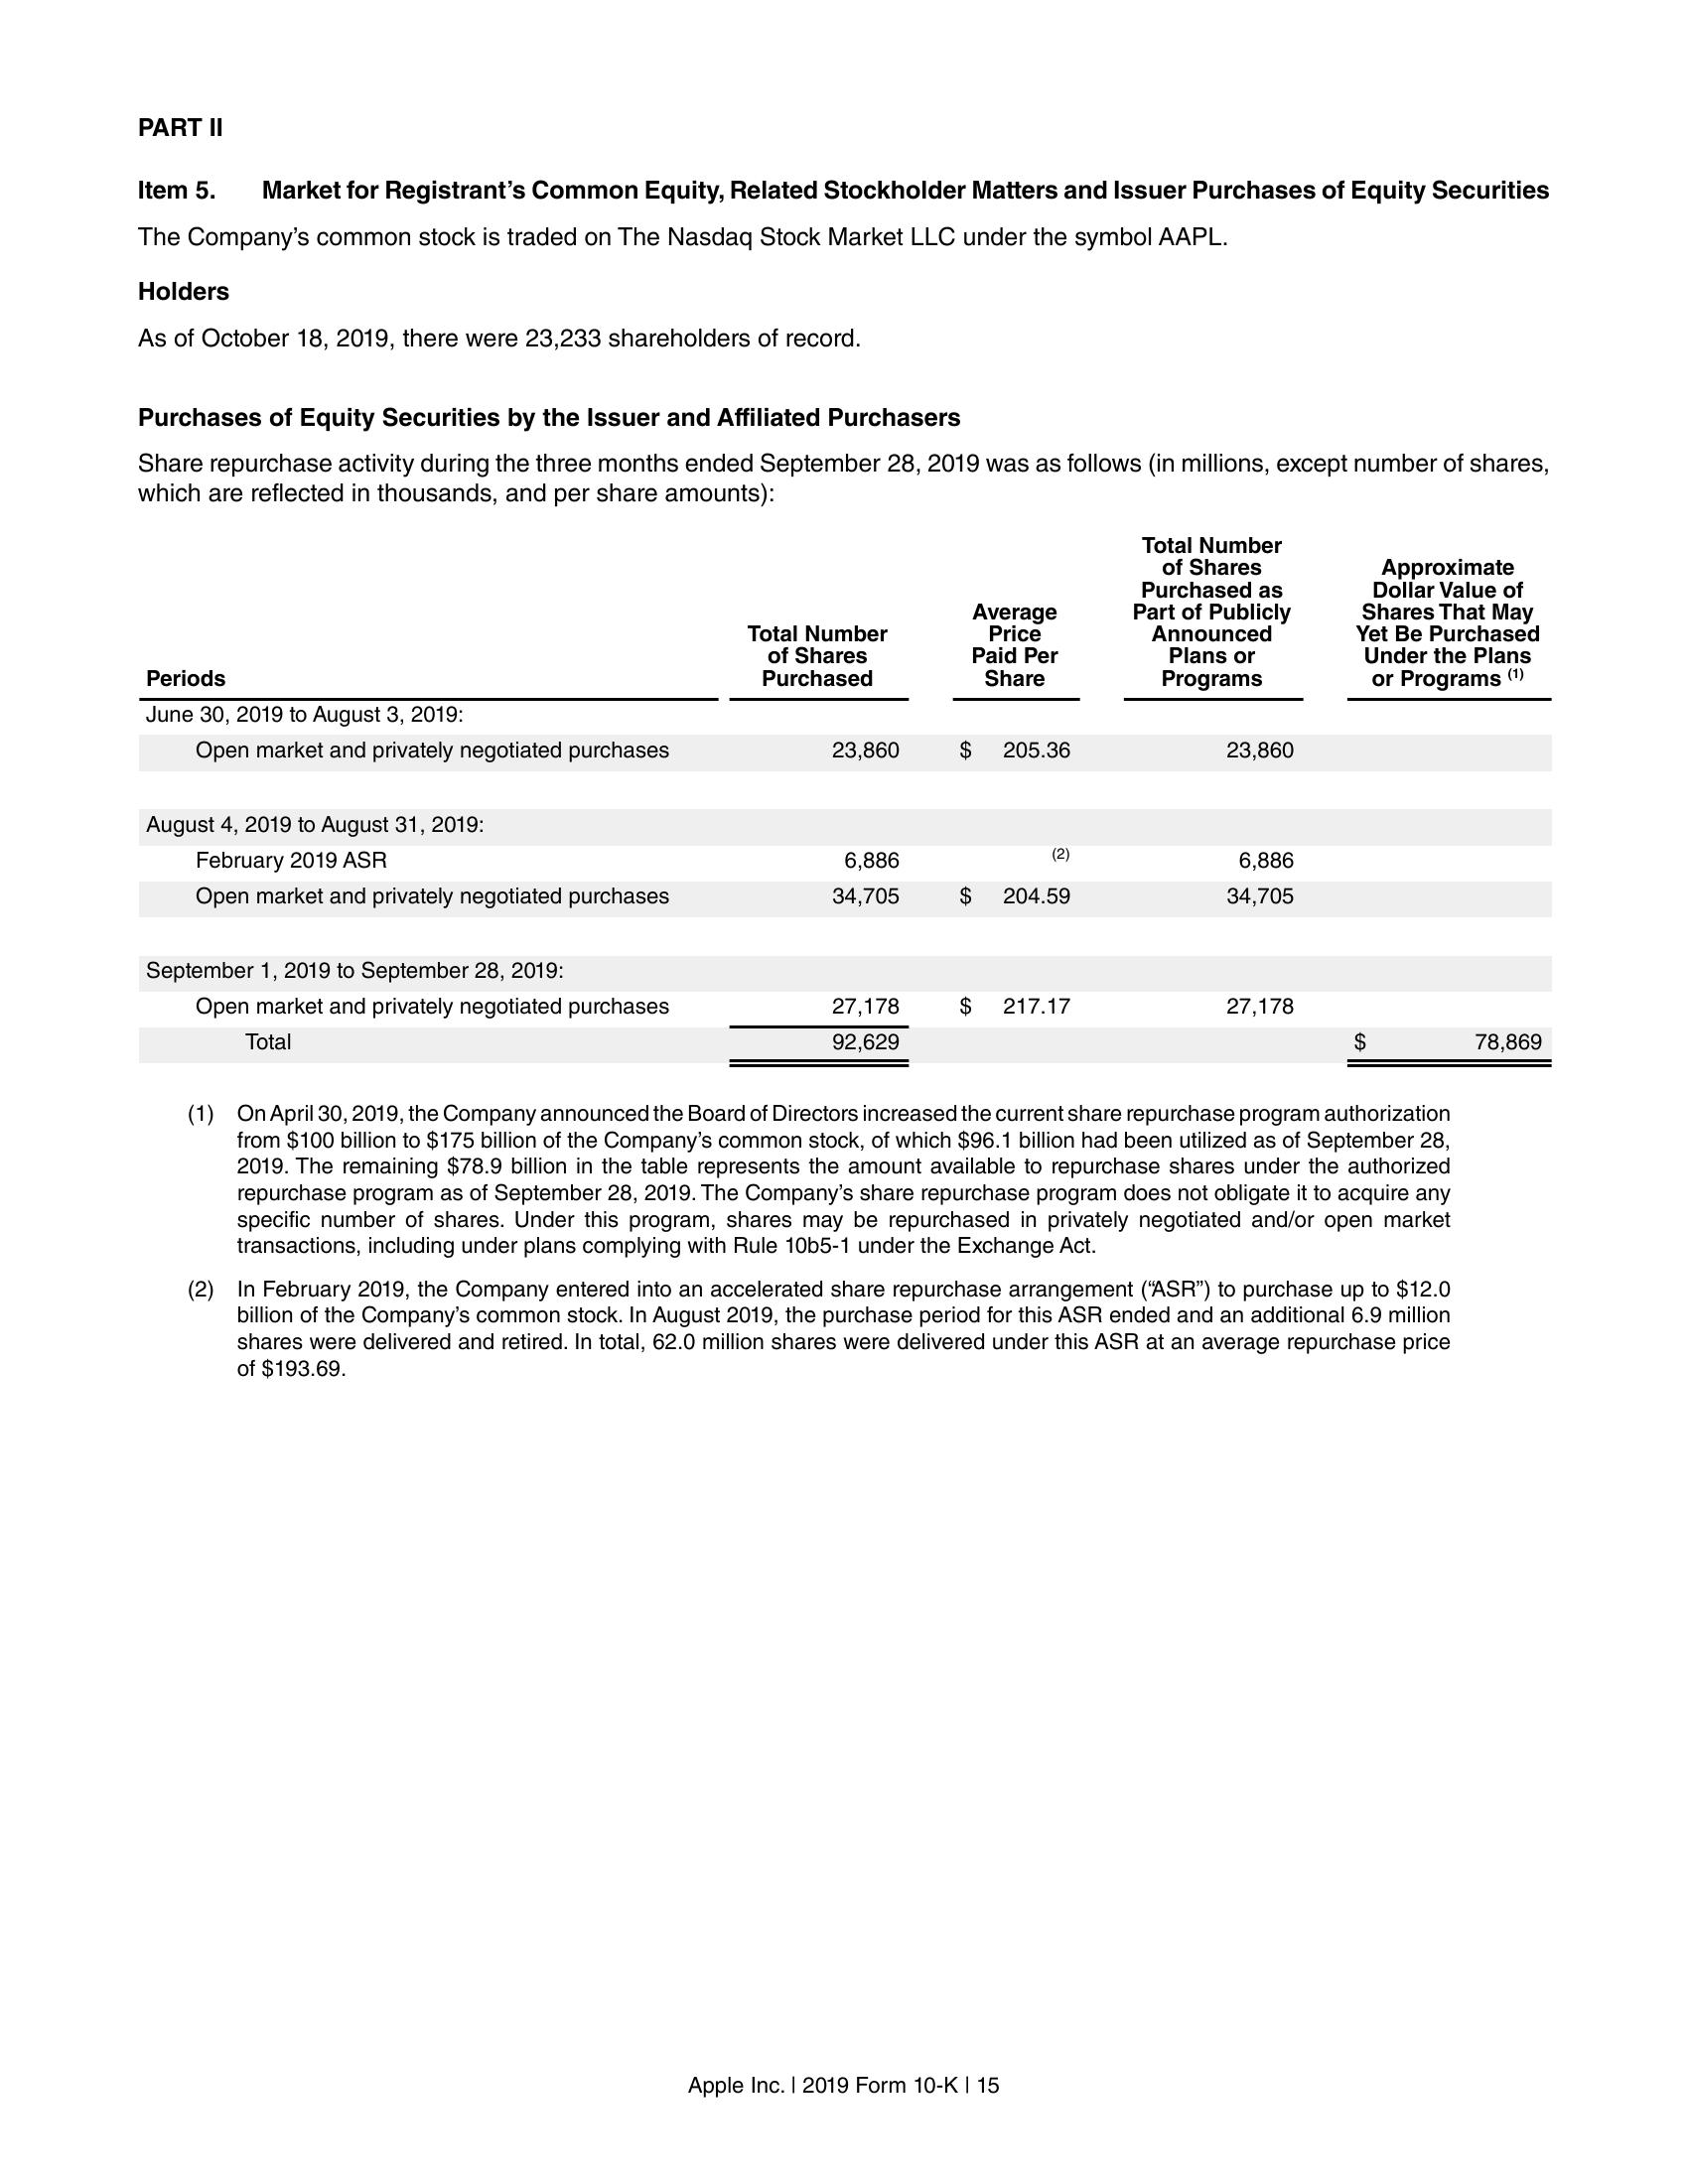table: (131, 532, 1562, 1078)
